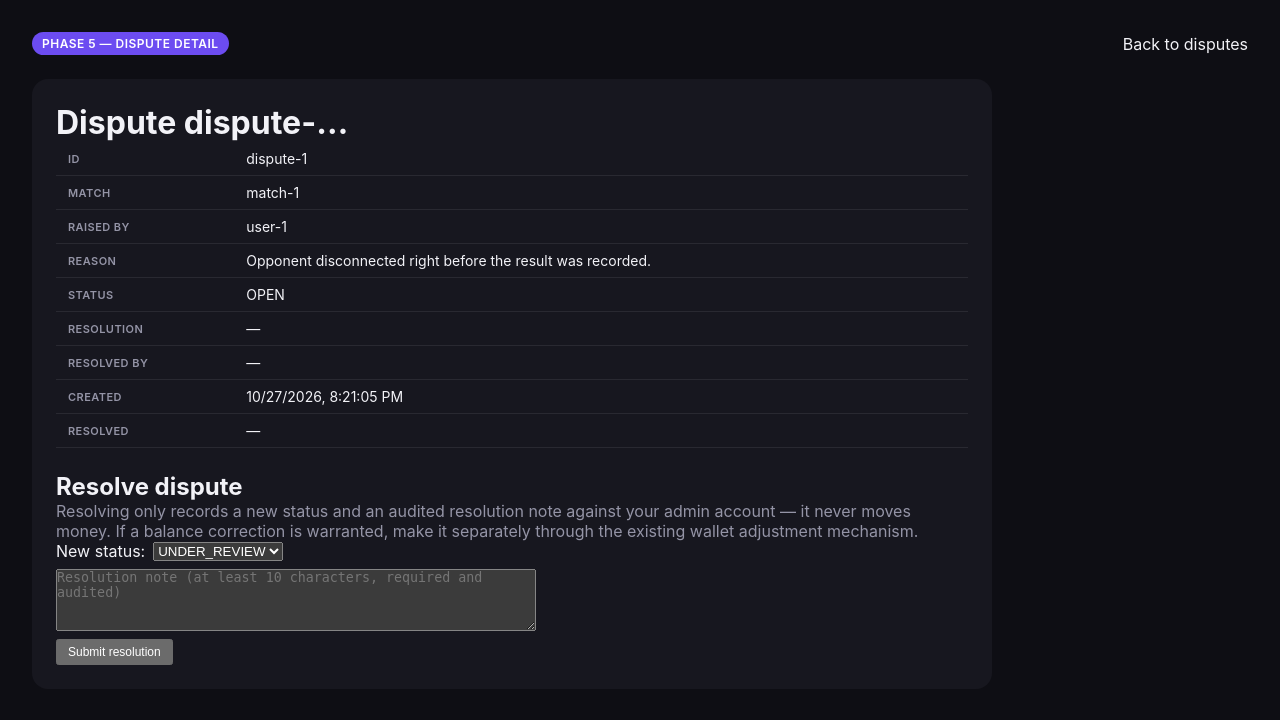
it: DisputeDetailPage › requires a resolution of at least 10 characters before submitting
Replace the text in the text box labelled "Resolution note" with "short" at [296, 600], box [56,569,536,631]
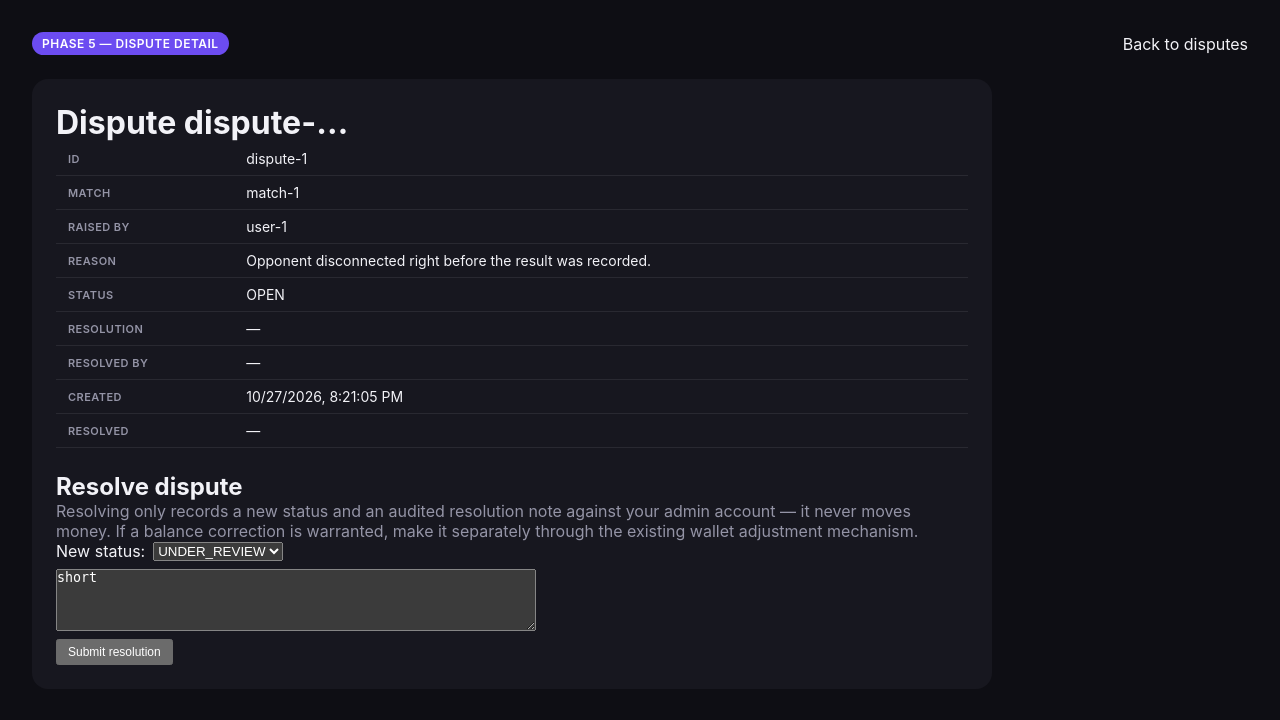
Click the button "Submit resolution" at [114, 652], box [56,639,173,665]
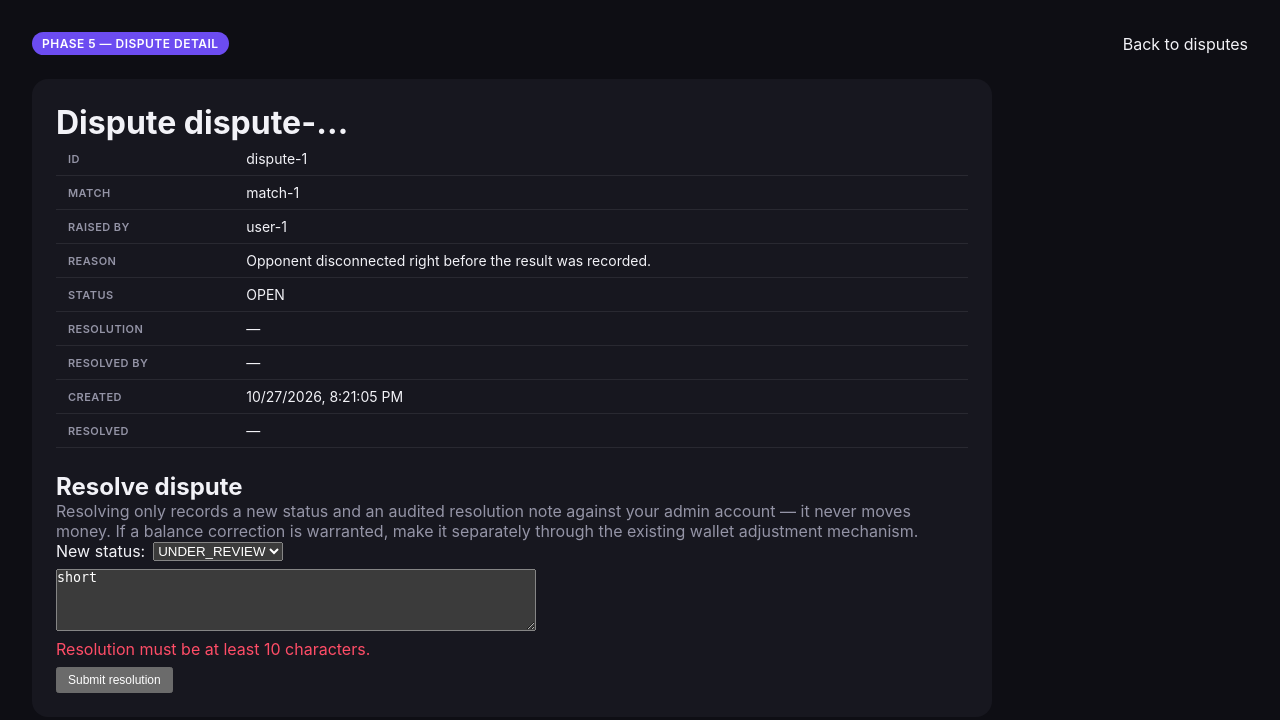
Check: the text "Resolution must be at least 10 characters." is shown, box [56,639,370,659]
